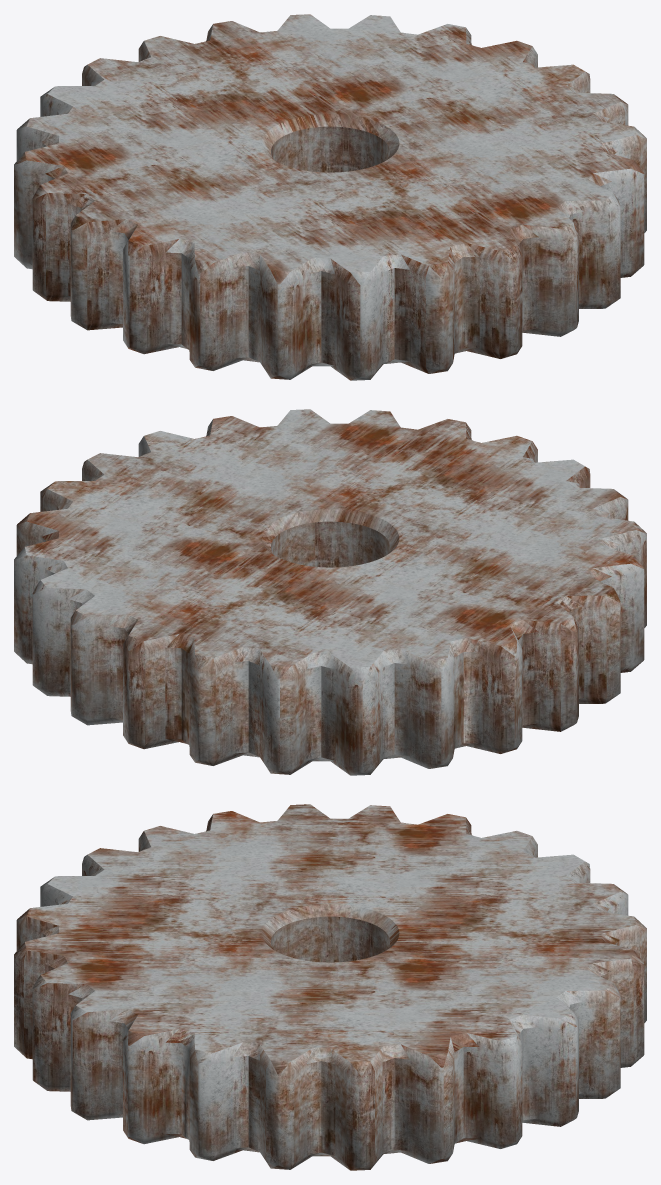
Rendered from gear_5.glb.
The picture shows the model from 3 angles, top to bottom: view 1: azimuth 30°, elevation 25°; view 2: azimuth 150°, elevation 25°; view 3: azimuth 270°, elevation 25°; orthographic projection.
Parts seen in each view (by area): view 1: gear_5; view 2: gear_5; view 3: gear_5.
Part boxes in pixels (x1,y1,x2,y2): gear_5: (14,14,646,380); gear_5: (14,409,646,775); gear_5: (14,804,646,1170).
Size of the model in its own units: 0.1592 by 0.03 by 0.1592.
Materials: 1 (1 with a texture image).
